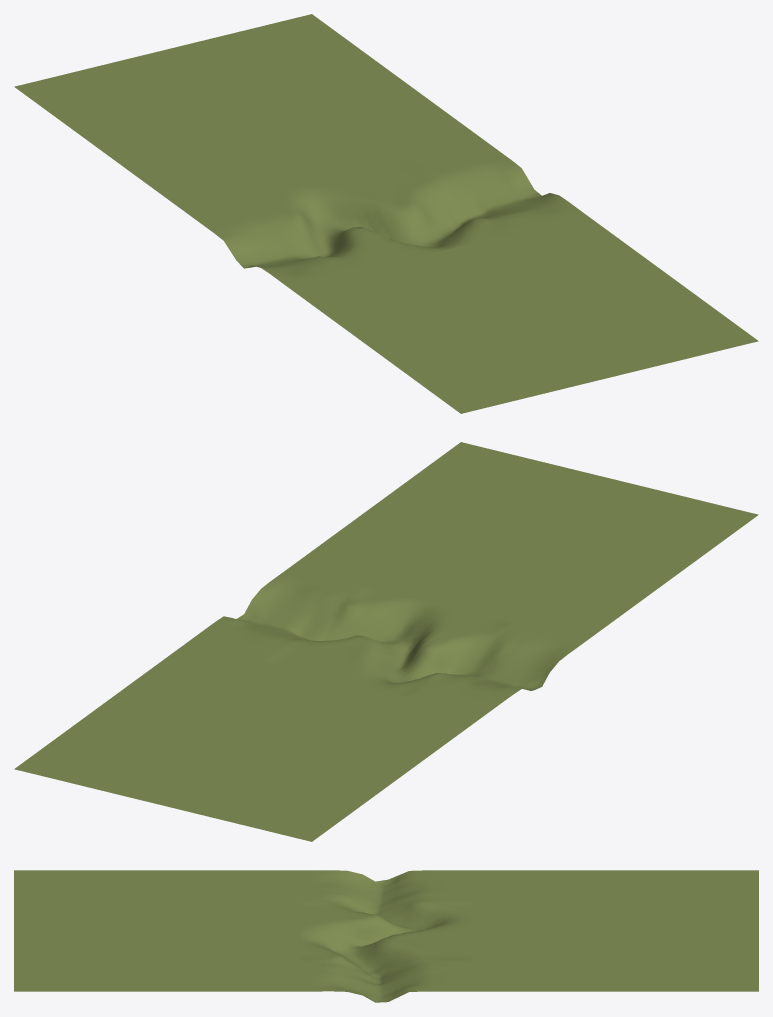
File: 2_2 Tile_7_smooth.fbx
3 renders of one model, top to bottom at view 1: azimuth 30°, elevation 25°; view 2: azimuth 150°, elevation 25°; view 3: azimuth 270°, elevation 25°, orthographic. The views are drawn at different scales.
Visible parts, largest first — view 1: tile 1.001; view 2: tile 1.001; view 3: tile 1.001.
Boxes of the visible parts, x1=… form: tile 1.001: x1=14, y1=14, x2=758, y2=413; tile 1.001: x1=14, y1=442, x2=758, y2=841; tile 1.001: x1=14, y1=870, x2=758, y2=1002.
Bounding box in the file's own units: 5000 × 381 × 12991.
